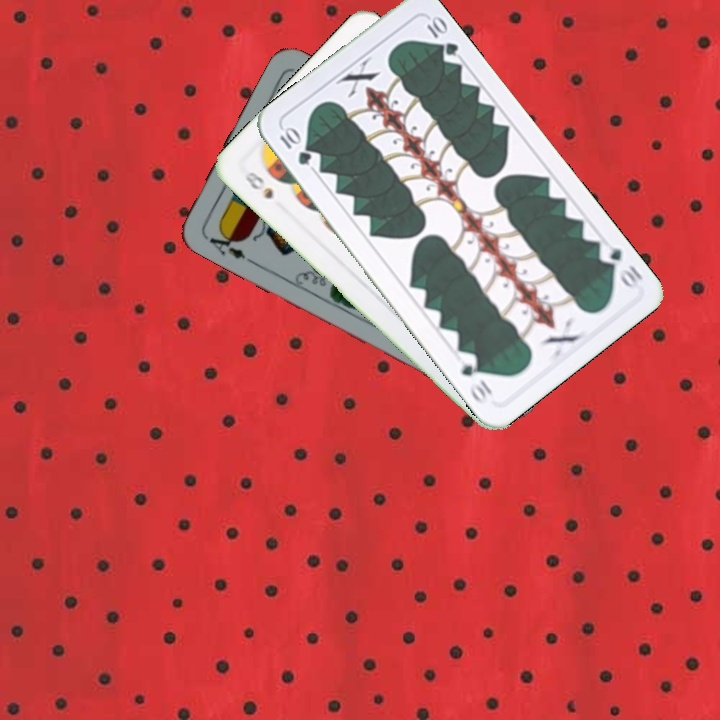EA: (201, 226, 249, 262)
G10: (594, 238, 646, 291), (275, 123, 314, 168)
S8: (240, 167, 276, 202)
